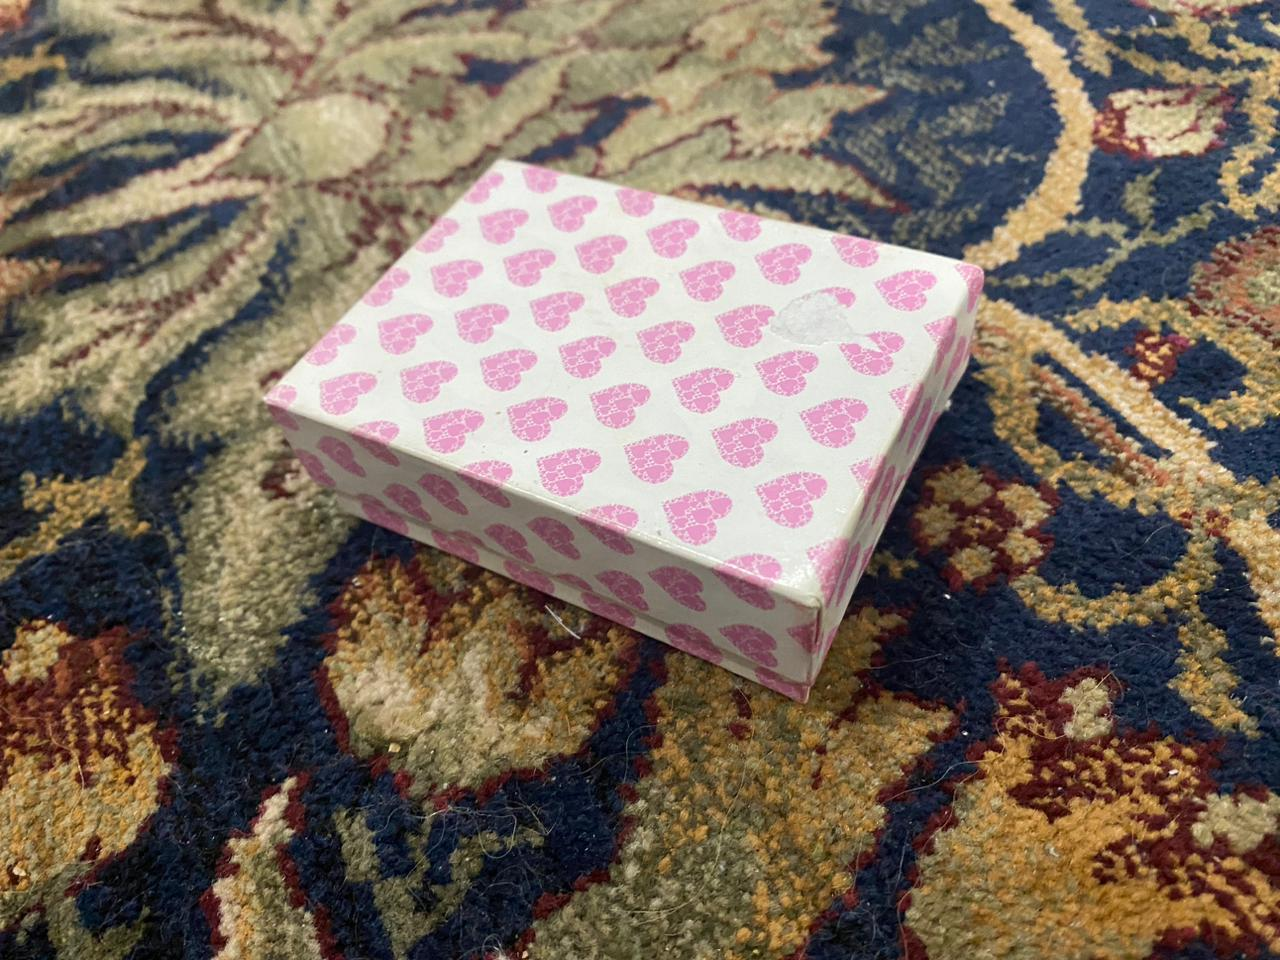Pink Box: (262, 156, 985, 706)
